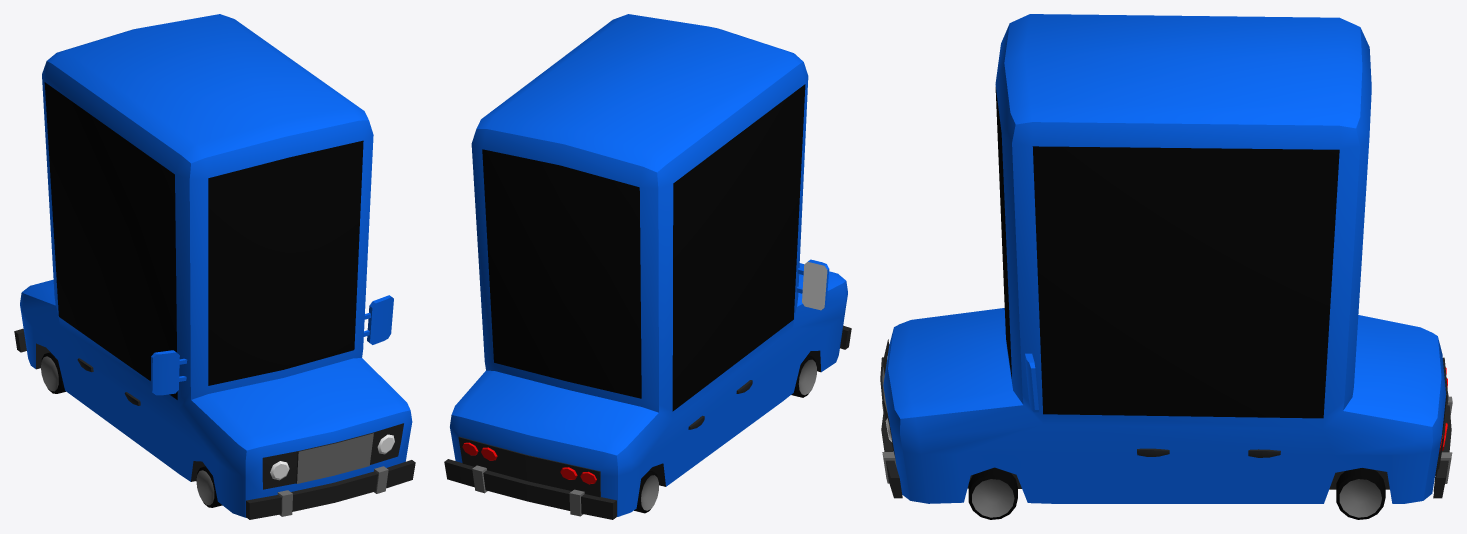
The picture shows the model from 3 angles, left to right: view 1: azimuth 30°, elevation 25°; view 2: azimuth 150°, elevation 25°; view 3: azimuth 270°, elevation 25°; orthographic projection. The views are drawn at different scales.
Parts seen in each view (by area): view 1: Cube, Cube.001, Cube.002, Cylinder.003, Cylinder.002; view 2: Cube, Cube.001, Cube.002, Cylinder.003, Cylinder.002; view 3: Cube, Cube.001, Cylinder.001, Cylinder.
Boxes of the visible parts, x1,y1,x2,y2 form: Cube: (20,14,412,517); Cube.001: (14,328,415,519); Cube.002: (150,295,393,395); Cylinder.003: (41,352,65,393); Cylinder.002: (196,466,222,507); Cube: (450,14,847,516); Cube.001: (444,325,851,519); Cube.002: (796,259,829,310); Cylinder.003: (634,470,658,513); Cylinder.002: (791,355,816,397); Cube: (883,14,1446,503); Cube.001: (880,339,1452,498); Cylinder.001: (1336,468,1385,519); Cylinder: (968,467,1017,519).
Size of the model in its own units: 151 by 212 by 263.
Materials: 1 (1 with a texture image).
